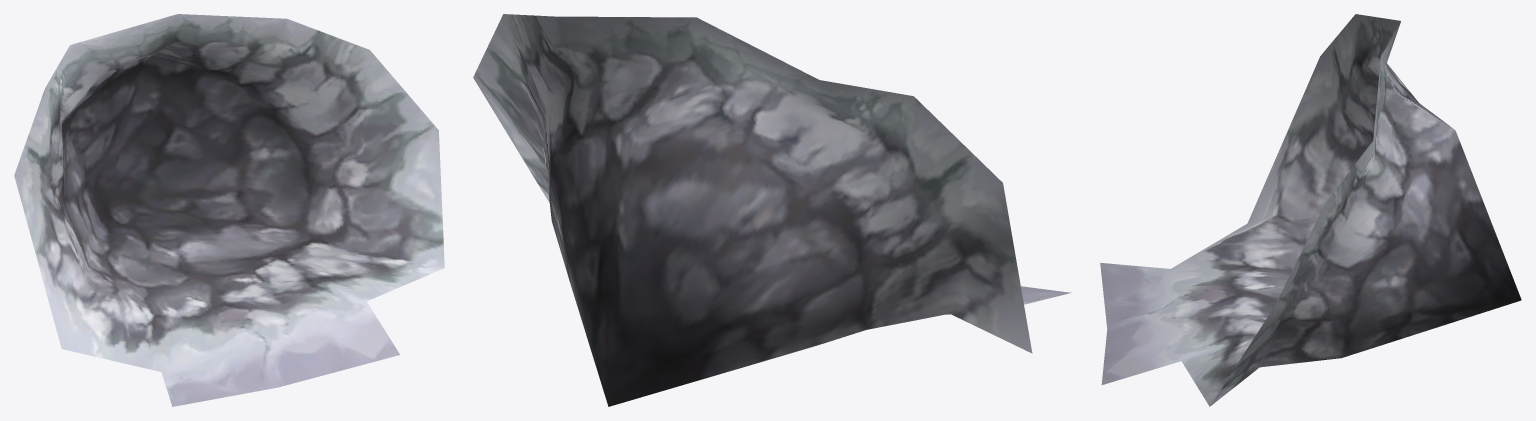
Rendered from SM_Cave_01.fbx.
3 renders of one model, left to right at view 1: azimuth 30°, elevation 25°; view 2: azimuth 150°, elevation 25°; view 3: azimuth 270°, elevation 25°, orthographic. The views are drawn at different scales.
Visible parts, largest first — view 1: SM_Cave_01; view 2: SM_Cave_01; view 3: SM_Cave_01.
Part boxes in pixels (<box>): SM_Cave_01: <box>14,14,444,406</box>; SM_Cave_01: <box>473,14,1071,406</box>; SM_Cave_01: <box>1100,14,1521,406</box>.
Bounding box in the file's own units: 3.67 × 2.36 × 3.14.
